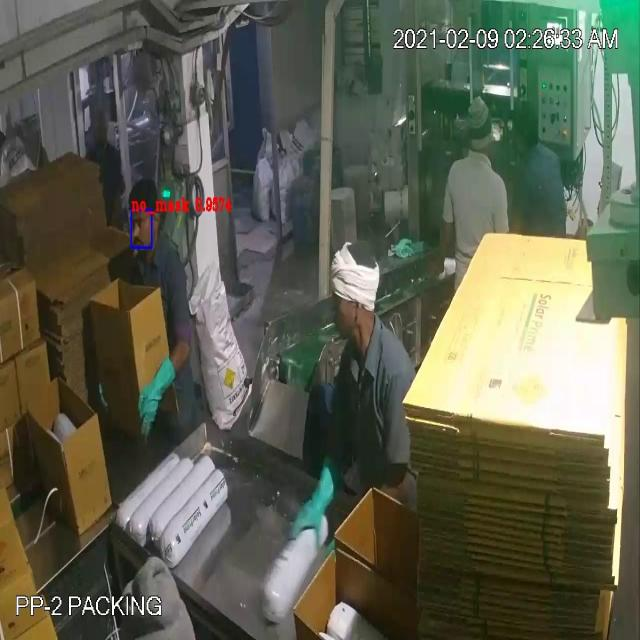gloves: (291, 439, 339, 554), (131, 349, 182, 444)
no-gloves: (427, 206, 458, 288)
